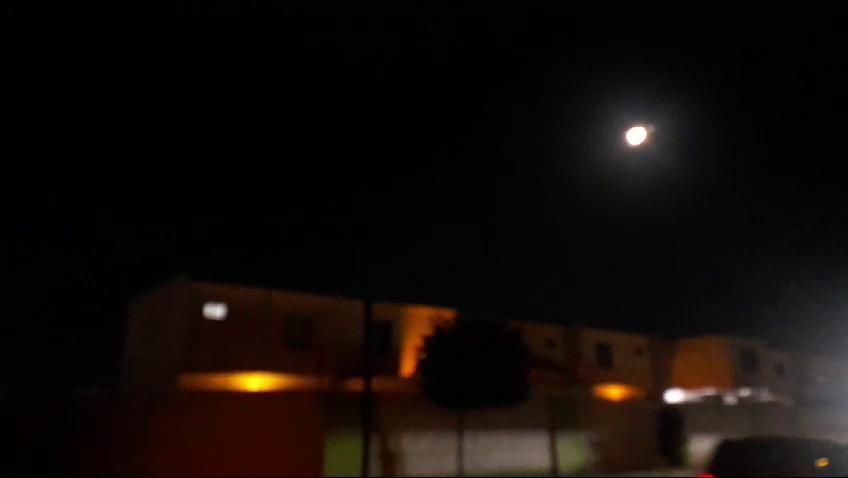moon: (628, 120, 654, 145)
